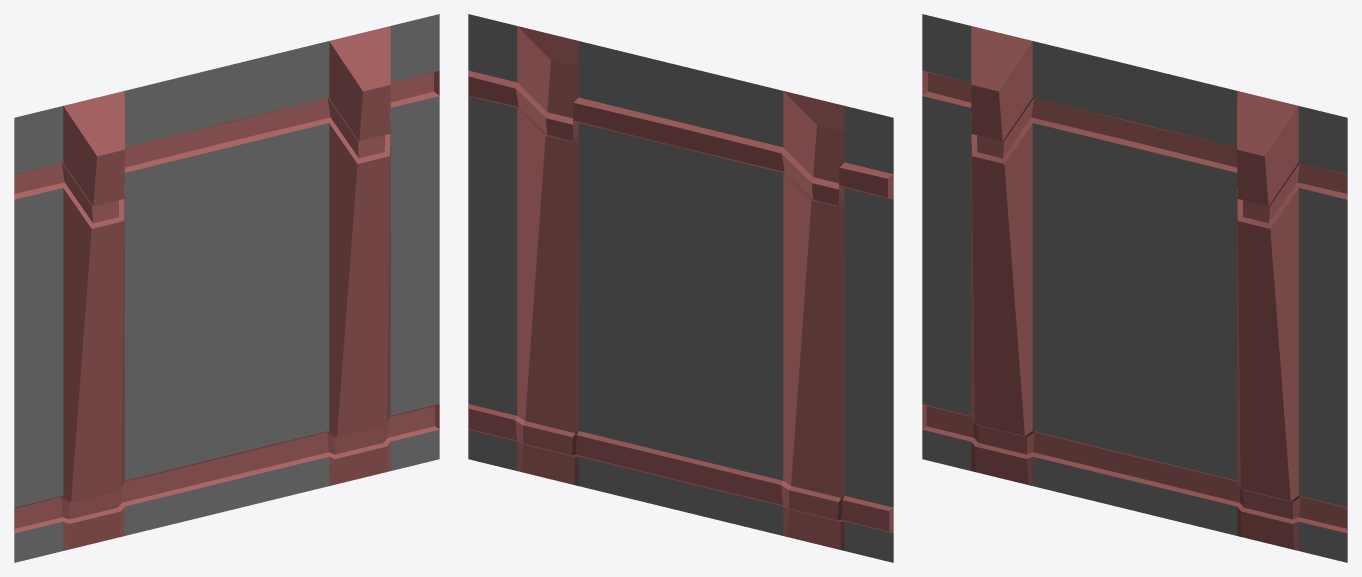
Rendered from SM_Module_3.fbx.
3 views of the same model, side by side, from view 1: azimuth 30°, elevation 25°; view 2: azimuth 150°, elevation 25°; view 3: azimuth 330°, elevation 25° (orthographic).
Parts seen in each view (by area): view 1: SM_Module_3; view 2: SM_Module_3; view 3: SM_Module_3.
Boxes of the visible parts, bbox=[...] form: SM_Module_3: bbox=[14, 14, 439, 562]; SM_Module_3: bbox=[468, 14, 893, 562]; SM_Module_3: bbox=[922, 14, 1347, 562].
Bounding box in the file's own units: 300 × 300 × 24.89.
